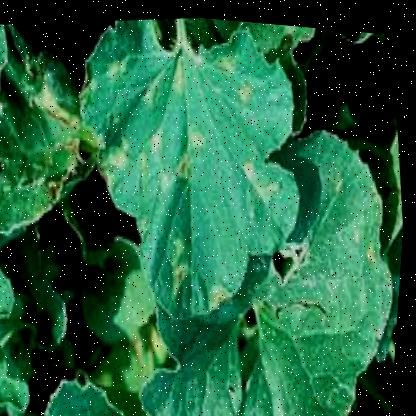Anthracnose: (95, 32, 257, 199), (144, 186, 252, 323)
